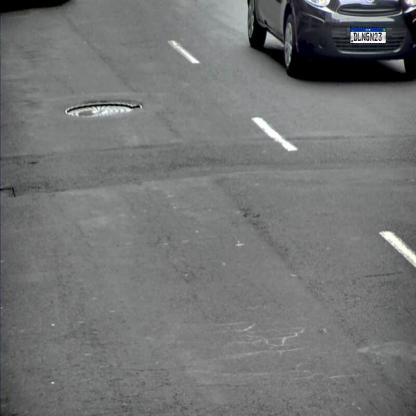PlacaM: (350, 27, 386, 44)
